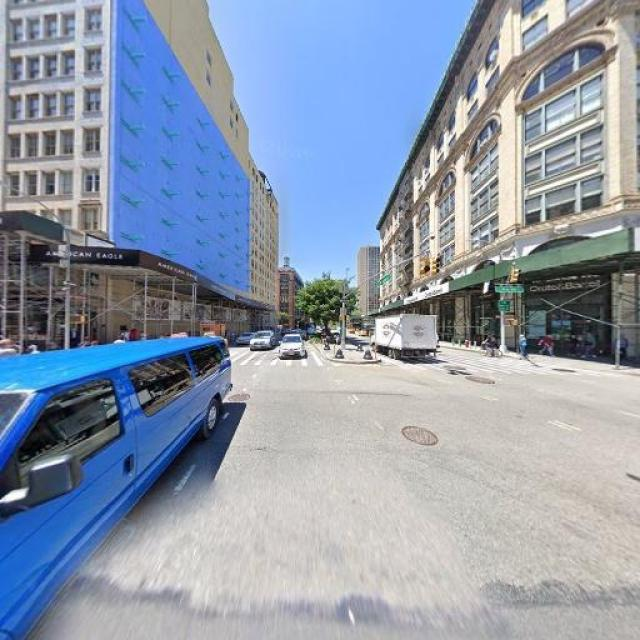Building: (383, 1, 640, 364), (1, 1, 252, 344)
